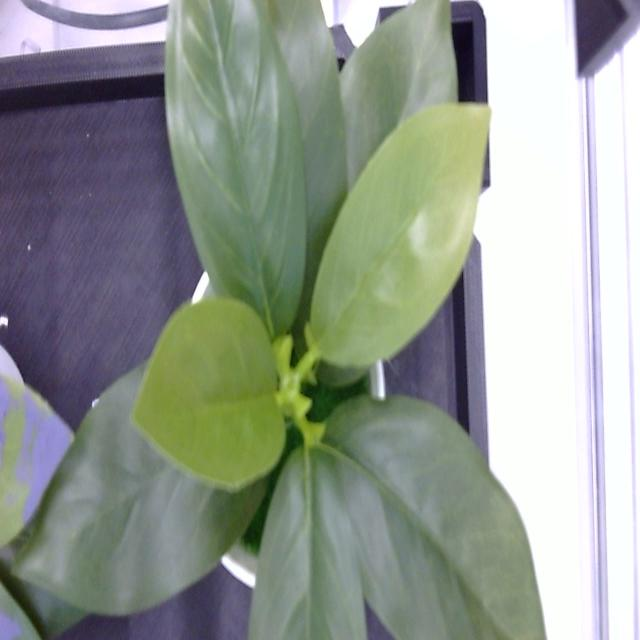Green: (13, 352, 266, 614), (166, 0, 346, 336), (336, 397, 546, 639), (310, 105, 490, 365), (132, 298, 286, 491), (248, 443, 368, 639), (340, 0, 457, 189)
Purple: (0, 344, 73, 548)
